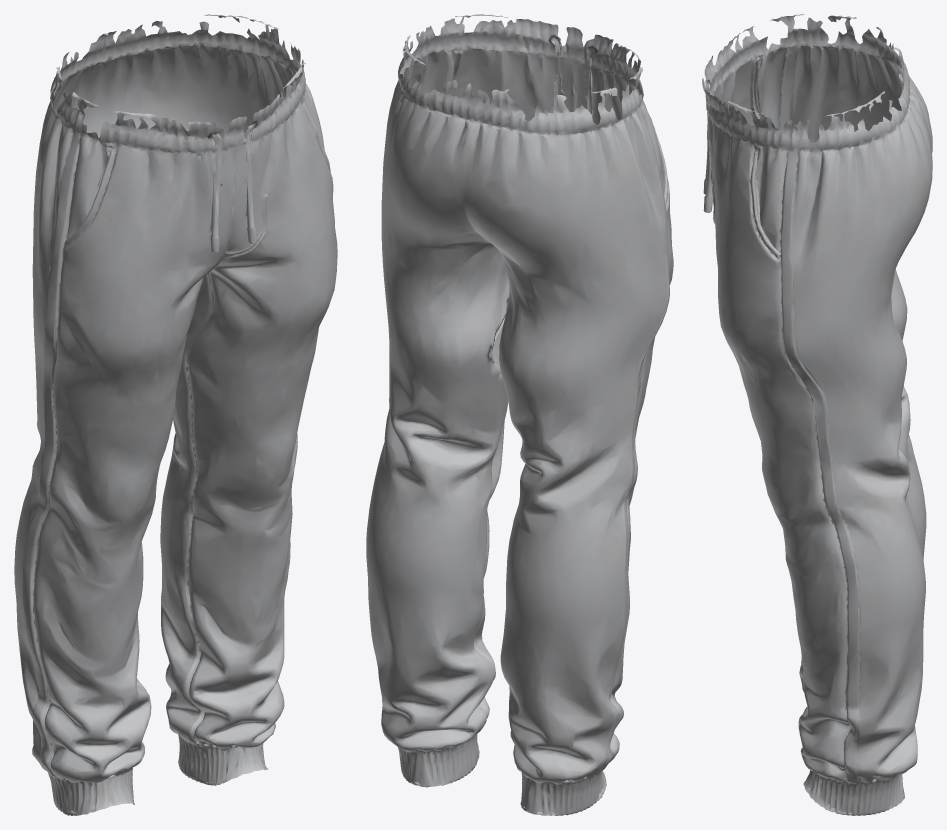
File: bottom_sweats.glb
3 renders of one model, left to right at view 1: azimuth 30°, elevation 25°; view 2: azimuth 150°, elevation 25°; view 3: azimuth 270°, elevation 25°, orthographic. The views are drawn at different scales.
Visible parts, largest first — view 1: sweats; view 2: sweats; view 3: sweats.
Boxes of the visible parts, x1,y1,x2,y2 form: sweats: (14,14,337,815); sweats: (366,14,673,815); sweats: (702,14,932,815).
Bounding box in the file's own units: 0.3664 × 0.9126 × 0.2682.
Materials: 1 (1 with a texture image).
